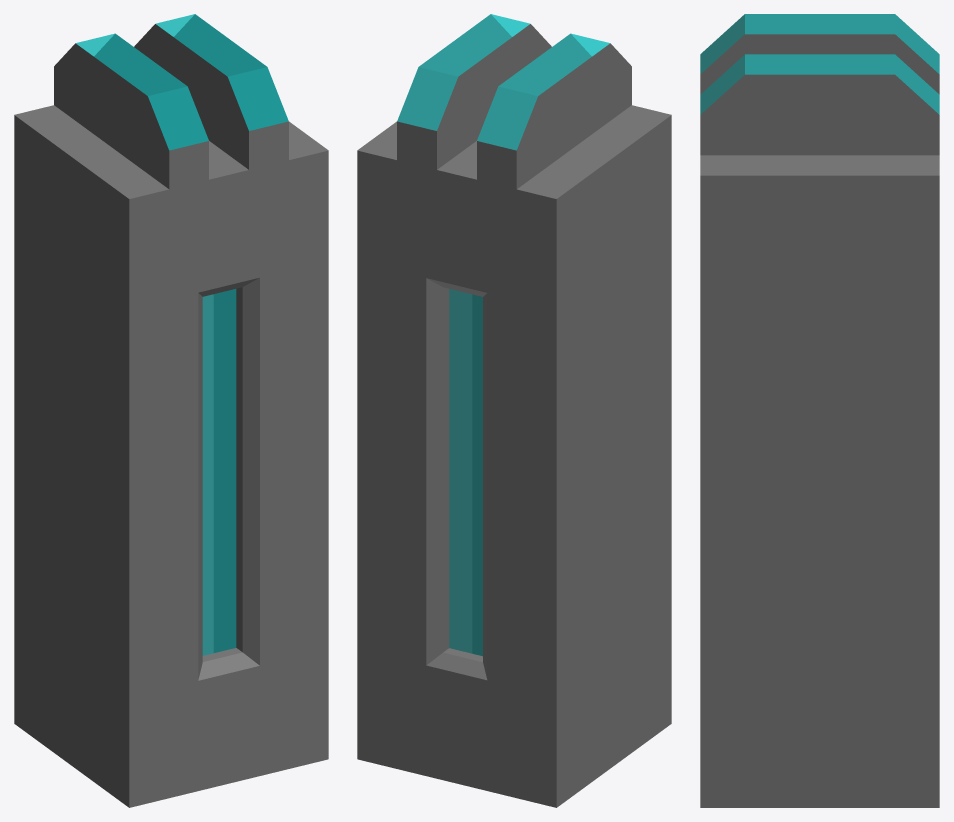
Rendered from Blue Peak Building.fbx.
3 views of the same model, side by side, from view 1: azimuth 30°, elevation 25°; view 2: azimuth 150°, elevation 25°; view 3: azimuth 270°, elevation 25° (orthographic). The views are drawn at different scales.
Parts seen in each view (by area): view 1: Blue_Peak_Building; view 2: Blue_Peak_Building; view 3: Blue_Peak_Building.
Boxes of the visible parts, left/top/right/bottom form: Blue_Peak_Building: left=14, top=14, right=328, bottom=807; Blue_Peak_Building: left=357, top=14, right=671, bottom=807; Blue_Peak_Building: left=700, top=14, right=939, bottom=807.
Bounding box in the file's own units: 30.35 × 99.81 × 30.35.
